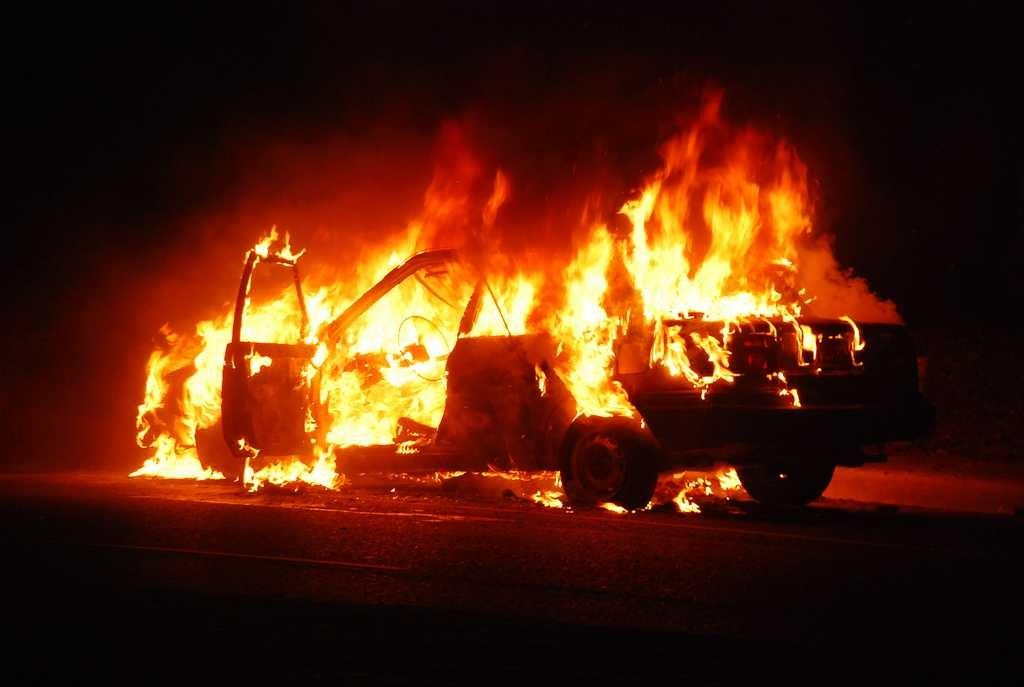fire: (148, 328, 227, 430), (571, 266, 612, 407), (324, 378, 431, 428), (631, 227, 687, 312), (364, 296, 435, 357), (246, 298, 301, 338), (485, 287, 534, 330), (151, 446, 195, 478)
